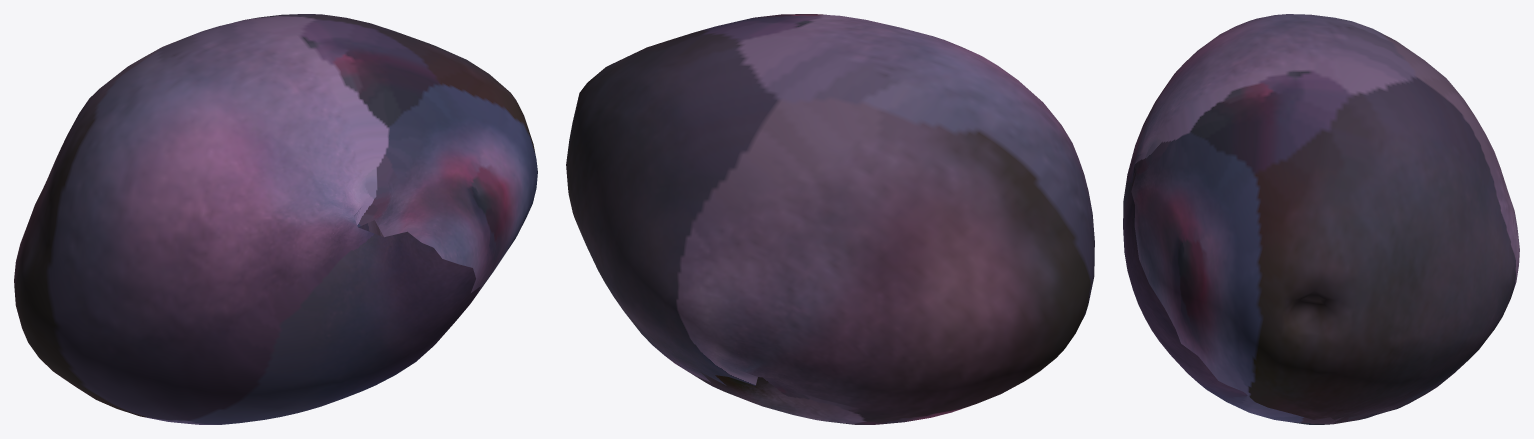
The model's file is Plum_01.fbx.
3 renders of one model, left to right at view 1: azimuth 30°, elevation 25°; view 2: azimuth 150°, elevation 25°; view 3: azimuth 270°, elevation 25°, orthographic. The views are drawn at different scales.
Parts seen in each view (by area): view 1: plum.obj; view 2: plum.obj; view 3: plum.obj.
Part boxes in pixels (x1,y1,x2,y2): plum.obj: [14, 14, 537, 424]; plum.obj: [566, 14, 1094, 424]; plum.obj: [1123, 14, 1519, 424].
Bounding box in the file's own units: 7.71 × 5.37 × 5.57.
